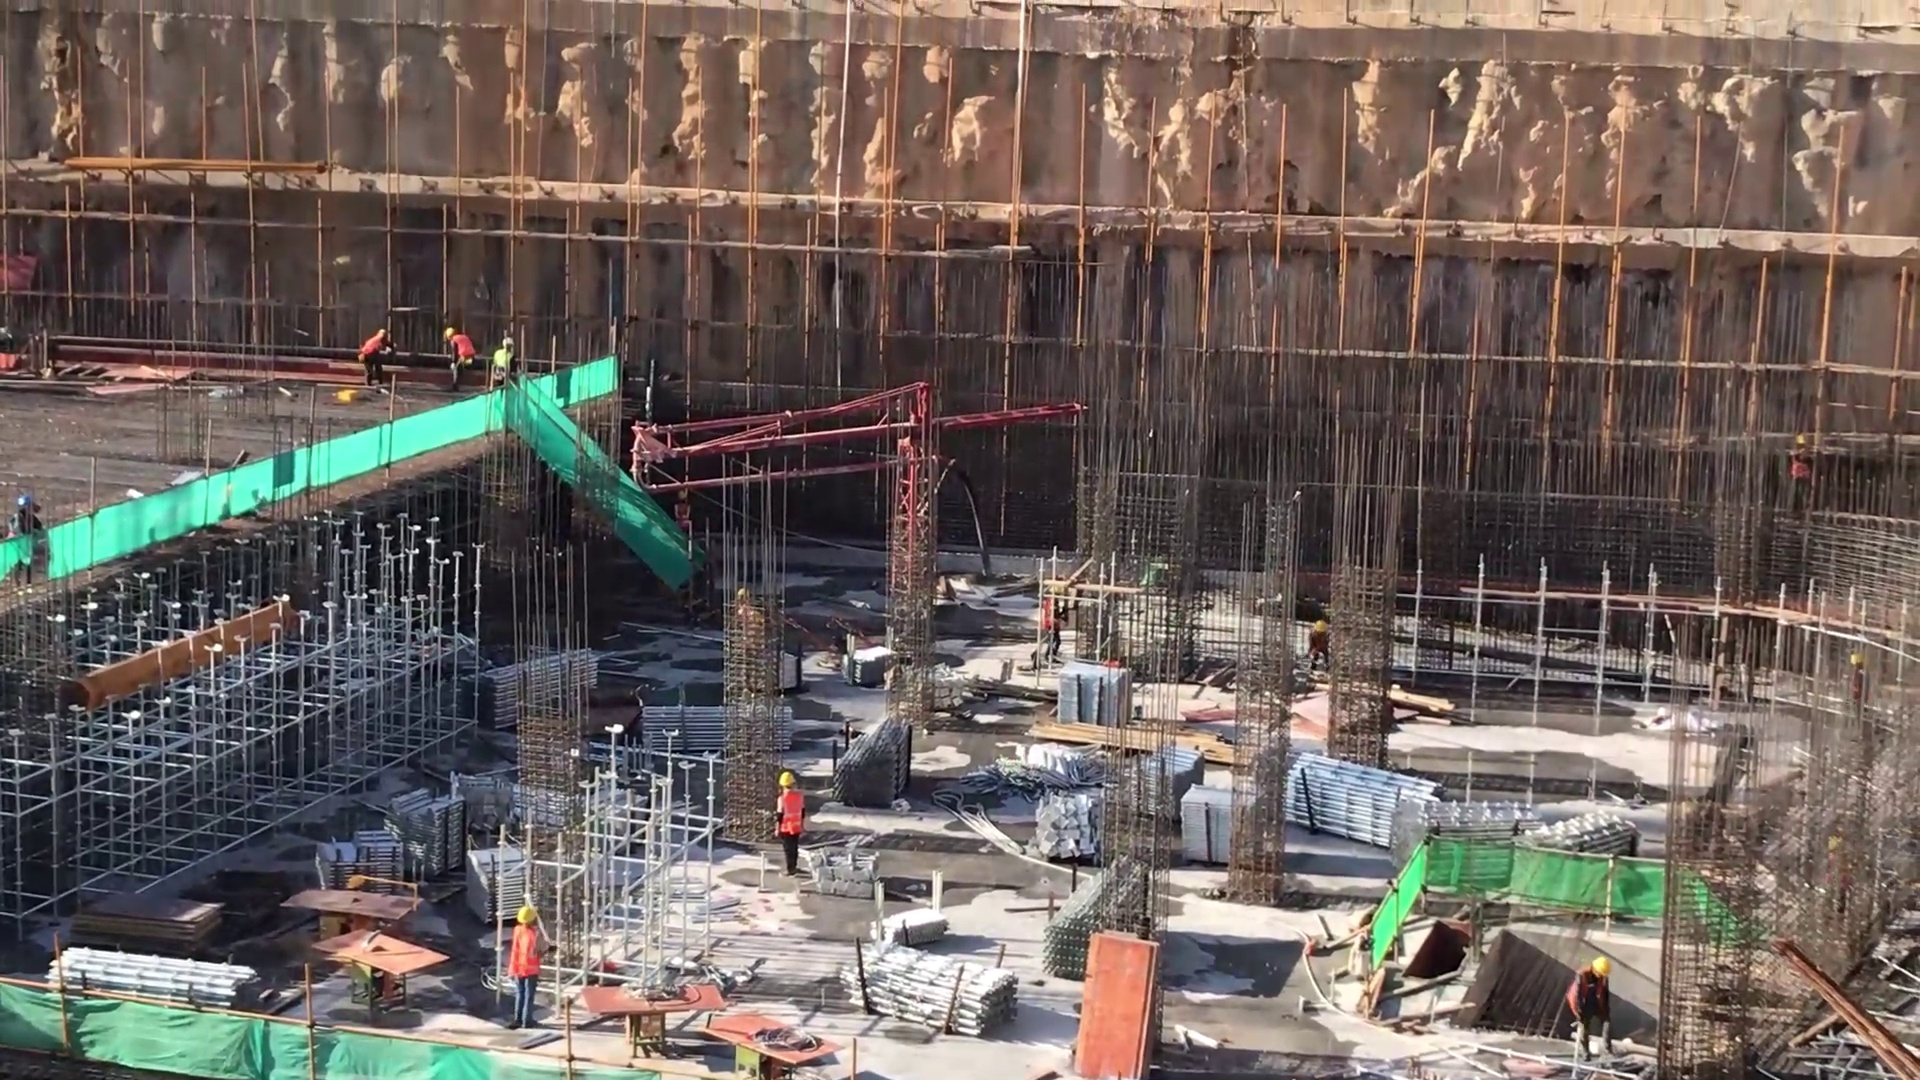cutter: (582, 966, 732, 1056), (316, 921, 455, 1014), (701, 1006, 839, 1080), (280, 879, 421, 951)
helmet: (511, 905, 543, 926), (1588, 952, 1613, 978), (775, 769, 801, 789), (1792, 429, 1813, 451), (497, 334, 516, 351), (440, 325, 458, 341), (1310, 618, 1328, 633), (376, 328, 390, 340)
person: (500, 902, 555, 1035), (1557, 950, 1622, 1062), (767, 763, 812, 878), (356, 320, 399, 392), (1785, 425, 1819, 512), (442, 321, 479, 393), (487, 332, 522, 396), (1303, 615, 1331, 672)
scaffold: (836, 934, 1019, 1044), (43, 933, 274, 1017), (1286, 744, 1449, 853), (1386, 794, 1542, 885), (464, 641, 611, 734), (1035, 856, 1125, 982), (1514, 809, 1650, 869), (385, 784, 465, 877), (318, 823, 413, 899), (1174, 771, 1243, 870), (456, 838, 531, 921), (1060, 653, 1133, 738), (635, 700, 738, 755)
vest: (508, 924, 543, 985), (1566, 961, 1604, 1019), (774, 790, 805, 838), (1789, 449, 1813, 482), (452, 332, 475, 362), (491, 347, 514, 375), (359, 338, 383, 363), (1303, 633, 1331, 652)
